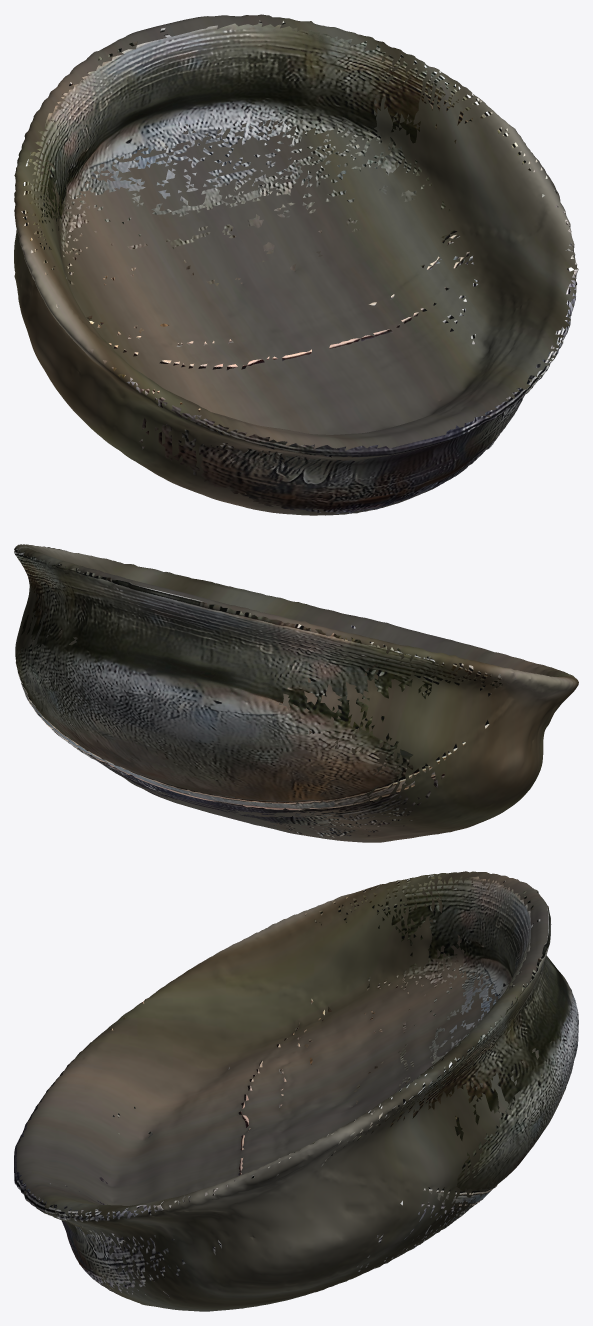
File: kfl-2239.glb
3 views of the same model, one above another, from view 1: azimuth 30°, elevation 25°; view 2: azimuth 150°, elevation 25°; view 3: azimuth 270°, elevation 25° (orthographic). The views are drawn at different scales.
Parts seen in each view (by area): view 1: kfl-2239; view 2: kfl-2239; view 3: kfl-2239.
Boxes of the visible parts, x1,y1,x2,y2 form: kfl-2239: (14,14,578,515); kfl-2239: (14,544,578,842); kfl-2239: (14,871,578,1311).
Bounding box in the file's own units: 0.989 × 0.6421 × 0.9319.
4 materials, 4 textured.
